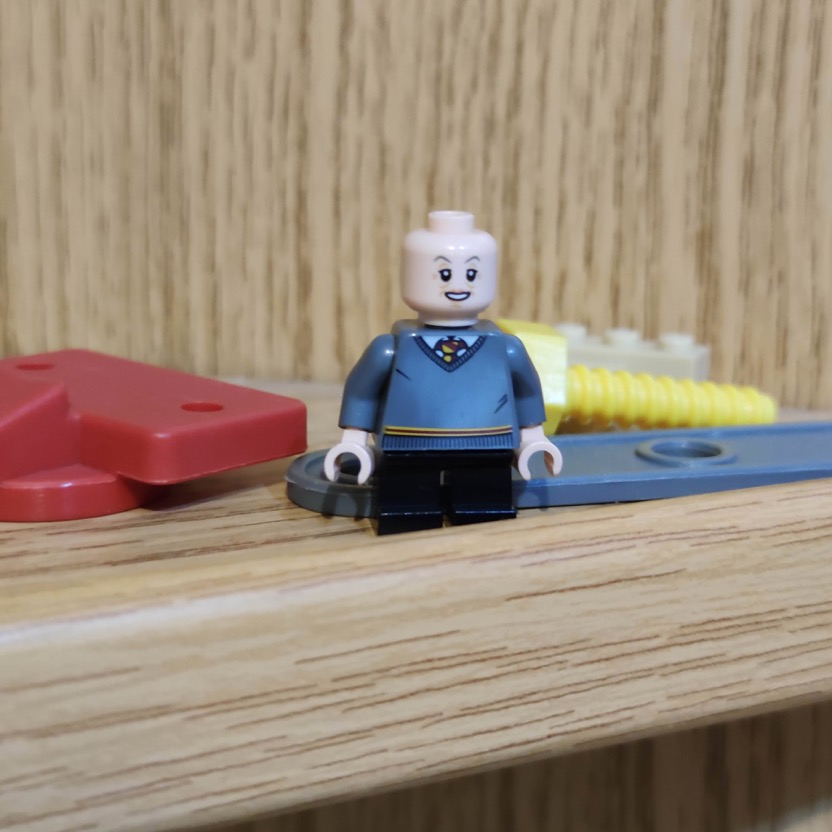lego: (326, 209, 565, 538)
